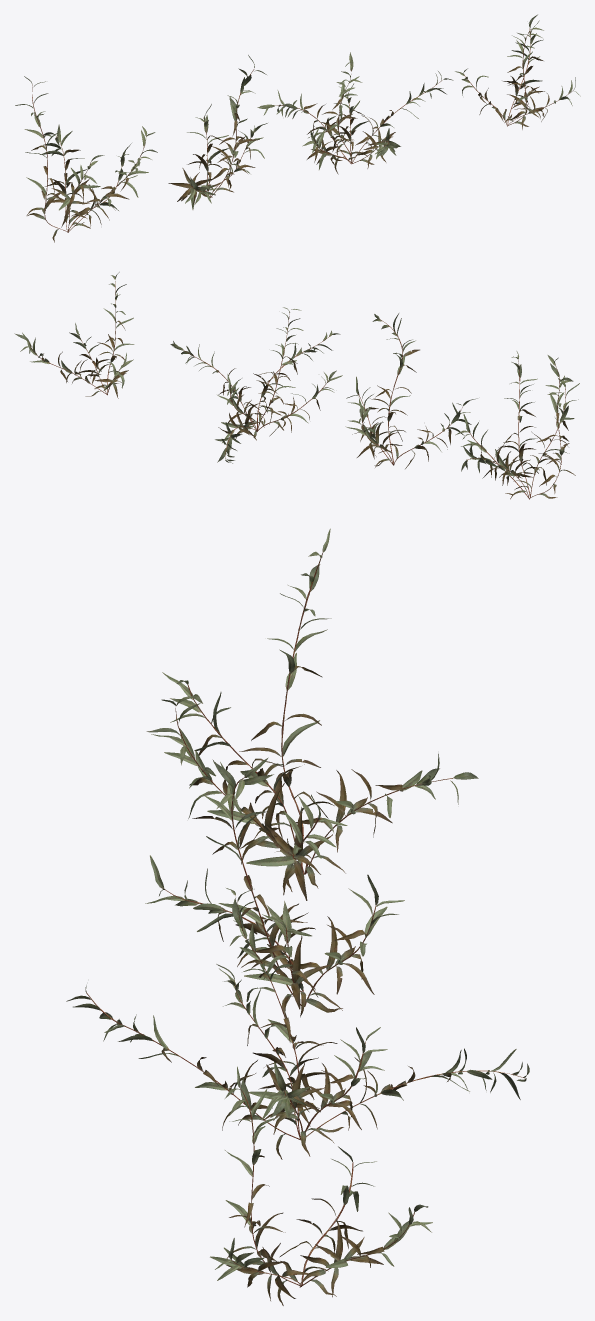
Rendered from shrub.glb.
3 views of the same model, one above another, from view 1: azimuth 30°, elevation 25°; view 2: azimuth 150°, elevation 25°; view 3: azimuth 270°, elevation 25° (orthographic). The views are drawn at different scales.
Parts seen in each view (by area): view 1: shrub_02_a; view 2: shrub_02_a; view 3: shrub_02_a.
Boxes of the visible parts, x1=… form: shrub_02_a: x1=15, y1=14, x2=580, y2=242; shrub_02_a: x1=14, y1=272, x2=579, y2=499; shrub_02_a: x1=66, y1=528, x2=529, y2=1305.
Size of the model in its own units: 6.05 by 1.7 by 2.29.
1 material, 1 textured.
